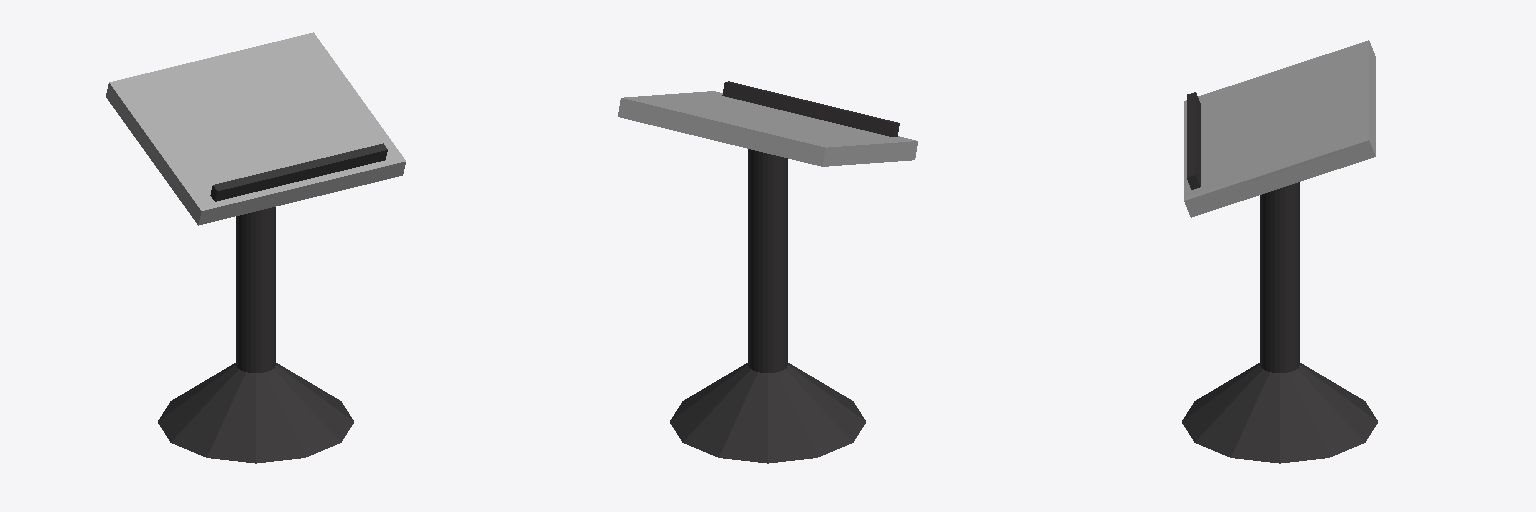
Rendered from stand.obj.
3 renders of one model, left to right at view 1: azimuth 30°, elevation 25°; view 2: azimuth 150°, elevation 25°; view 3: azimuth 270°, elevation 25°, orthographic.
Parts seen in each view (by area): view 1: Box, Cone, Cylinder, Box1; view 2: Cone, Box, Cylinder, Box1; view 3: Box, Cone, Cylinder, Box1.
Part boxes in pixels (bbox=[...]): Box: bbox=[106, 32, 405, 225]; Cone: bbox=[158, 363, 353, 463]; Cylinder: bbox=[236, 207, 275, 372]; Box1: bbox=[210, 143, 387, 201]; Cone: bbox=[670, 363, 865, 463]; Box: bbox=[618, 91, 917, 166]; Cylinder: bbox=[748, 149, 787, 372]; Box1: bbox=[722, 81, 899, 136]; Box: bbox=[1184, 40, 1375, 217]; Cone: bbox=[1182, 363, 1377, 463]; Cylinder: bbox=[1260, 182, 1299, 372]; Box1: bbox=[1187, 92, 1200, 189].
Size of the model in its own units: 0.6 by 0.929 by 0.5.